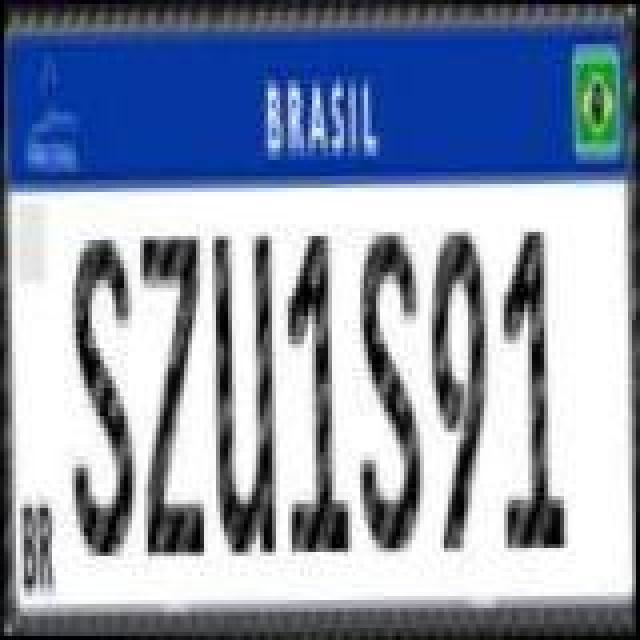1: (278, 226, 358, 558), (494, 222, 574, 554)
9: (424, 222, 500, 550)
S: (62, 228, 142, 564), (350, 228, 430, 560)
U: (208, 226, 284, 562)
Z: (136, 230, 212, 566)
